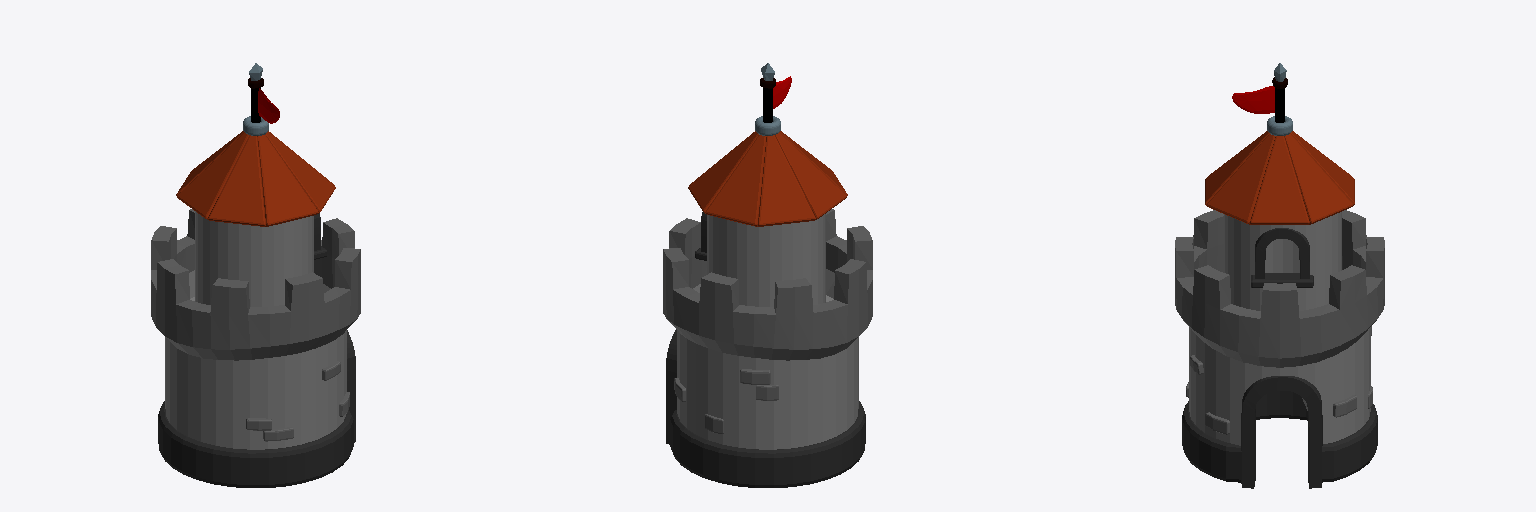
The model's file is castle_dungeon.obj.
The picture shows the model from 3 angles: view 1: azimuth 30°, elevation 25°; view 2: azimuth 150°, elevation 25°; view 3: azimuth 270°, elevation 25°; orthographic projection.
Parts seen in each view (by area): view 1: castle_dungeon; view 2: castle_dungeon; view 3: castle_dungeon.
Boxes of the visible parts, box(x1,y1,x2,y2) form: castle_dungeon: box(151, 63, 360, 487); castle_dungeon: box(663, 63, 872, 487); castle_dungeon: box(1175, 63, 1384, 488).
Size of the model in its own units: 14.1 by 28.57 by 14.11.